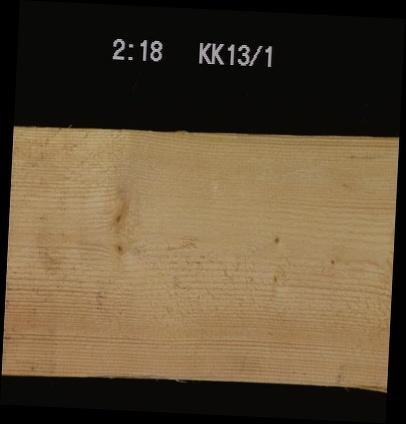small_knot: (104, 202, 131, 229), (107, 238, 133, 261), (320, 250, 343, 271), (264, 264, 284, 285), (266, 230, 287, 246)
